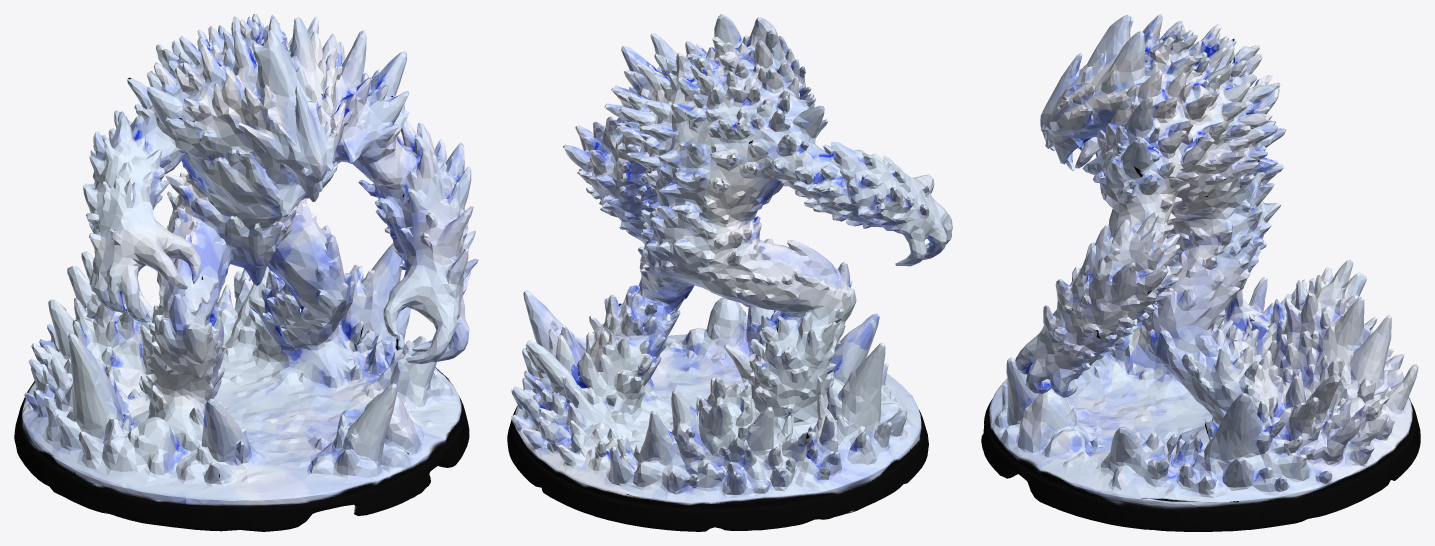
File: elemental_gelo.glb
The picture shows the model from 3 angles, left to right: view 1: azimuth 30°, elevation 25°; view 2: azimuth 150°, elevation 25°; view 3: azimuth 270°, elevation 25°; orthographic projection. The views are drawn at different scales.
Parts seen in each view (by area): view 1: tmprua6iiql.ply; view 2: tmprua6iiql.ply; view 3: tmprua6iiql.ply.
Boxes of the visible parts, <box> form: tmprua6iiql.ply: <box>14,14,478,531</box>; tmprua6iiql.ply: <box>507,14,952,531</box>; tmprua6iiql.ply: <box>981,14,1420,531</box>.
Size of the model in its own units: 1.85 by 1.96 by 1.85.
1 material, 1 textured.
